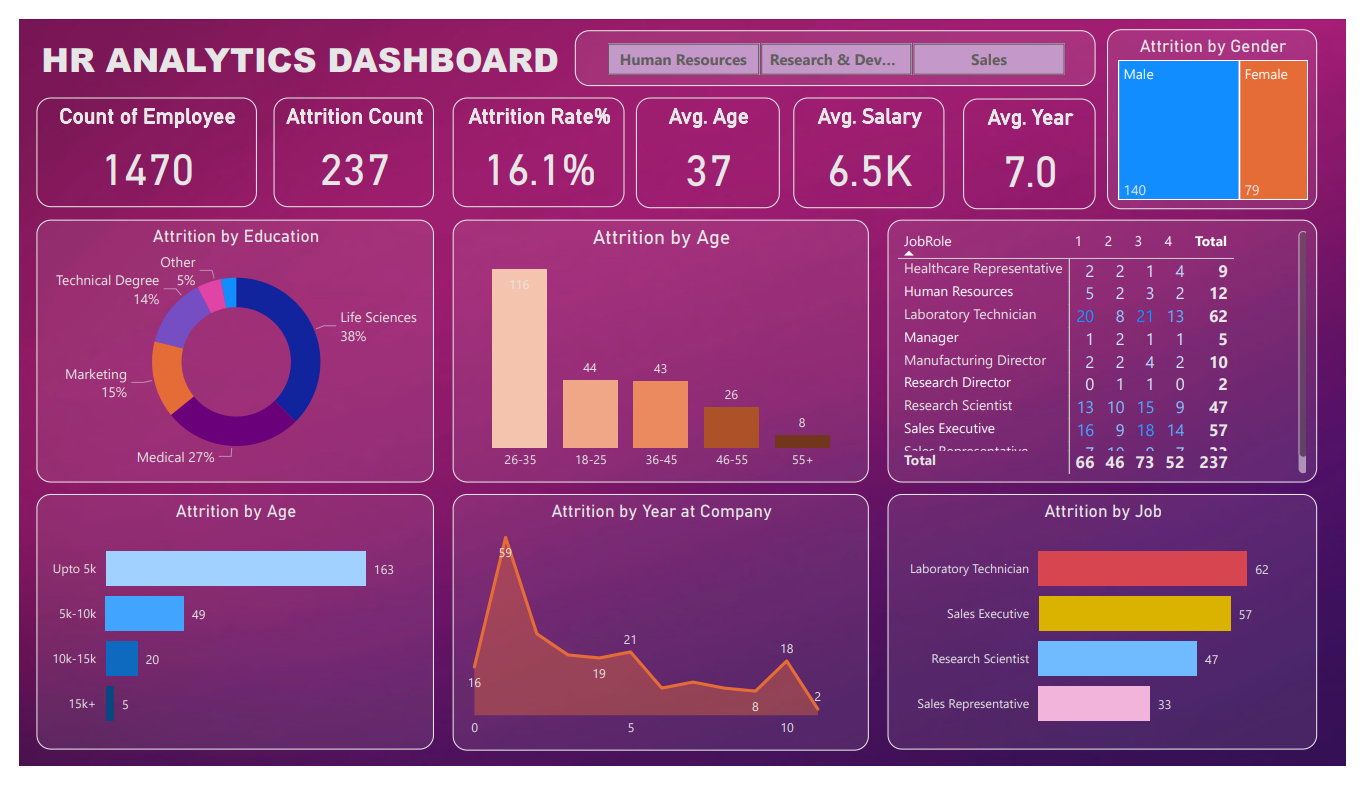

The page's visual inventory and layout, read from the dashboard file:
{"tool":"powerbi","page":{"name":"Page 1","canvas":[1280,720],"ordinal":0},"visuals":[{"type":"card","title":"Count of Employee","fields":{"Values":["CountNonNull(HR_Analytics.EmpID)"]},"box":[16.2,74.6,213.1,106.2],"z":0},{"type":"card","title":"Attrition Count","fields":{"Values":["Sum(HR_Analytics.AttritionCount)"]},"box":[245.4,74.6,154.6,106.2],"z":1000},{"type":"card","title":"Avg. Age","fields":{"Values":["Avg(HR_Analytics.Age)"]},"box":[595.4,74.6,138.5,106.9],"z":2000},{"type":"card","title":"Attrition Rate%","fields":{"Values":["HR_Analytics.AttritionRate%"]},"box":[418.5,74.6,165.4,106.2],"z":3000},{"type":"card","title":"Avg. Salary","fields":{"Values":["Avg(HR_Analytics.MonthlyIncome)"]},"box":[746.9,75.4,146.2,106.9],"z":4000},{"type":"card","title":"Avg. Year","fields":{"Values":["Avg(HR_Analytics.YearsAtCompany)"]},"box":[910.8,76.2,128.5,106.9],"z":5000},{"type":"donutChart","title":"Attrition by Education","fields":{"Category":["HR_Analytics.EducationField"],"Y":["Sum(HR_Analytics.AttritionCount)"]},"box":[16,193,384,254],"z":6000},{"type":"columnChart","title":"Attrition by Age","fields":{"Category":["HR_Analytics.AgeGroup"],"Y":["Sum(HR_Analytics.AttritionCount)"]},"box":[418.2,193.3,401.7,253.6],"z":7000},{"type":"pivotTable","title":"Attrition by Age","fields":{"Rows":["HR_Analytics.JobRole"],"Columns":["HR_Analytics.JobSatisfaction"],"Values":["Sum(HR_Analytics.AttritionCount)"]},"box":[838,193,415,254],"z":8000},{"type":"barChart","title":"Attrition by Age","fields":{"Category":["HR_Analytics.SalarySlab"],"Y":["Sum(HR_Analytics.AttritionCount)"]},"box":[16,458,384,247],"z":9000},{"type":"barChart","title":"Attrition by Job","fields":{"Y":["Sum(HR_Analytics.AttritionCount)"],"Category":["HR_Analytics.JobRole"]},"box":[838,458,415,247],"z":10000},{"type":"areaChart","title":"Attrition by Year at Company","fields":{"Category":["HR_Analytics.YearsAtCompany"],"Y":["Sum(HR_Analytics.AttritionCount)"]},"box":[418.2,457.9,401.7,248.2],"z":11000},{"type":"treemap","title":"Attrition by Gender","fields":{"Values":["Sum(HR_Analytics.AttritionCount)"],"Group":["HR_Analytics.Gender"]},"box":[1050,8.9,203.3,174.4],"z":12000},{"type":"slicer","title":"Attrition by Gender","fields":{"Values":["HR_Analytics.Department"]},"box":[536.1,9.6,503.2,54.8],"z":13000},{"type":"textbox","box":[16.5,9.6,532,67.2],"z":13001}]}

Visuals, with their boxes in screenshot pixels (x1, y1, x2, y2), scaled from the page's 1280x720 canvas onto the 1366x785 screenshot:
"Count of Employee" card: locate(17, 81, 245, 197)
"Attrition Count" card: locate(262, 81, 427, 197)
"Avg. Age" card: locate(635, 81, 783, 198)
"Attrition Rate%" card: locate(447, 81, 623, 197)
"Avg. Salary" card: locate(797, 82, 953, 199)
"Avg. Year" card: locate(972, 83, 1109, 200)
"Attrition by Education" donutChart: locate(17, 210, 427, 487)
"Attrition by Age" columnChart: locate(446, 211, 875, 487)
"Attrition by Age" pivotTable: locate(894, 210, 1337, 487)
"Attrition by Age" barChart: locate(17, 499, 427, 769)
"Attrition by Job" barChart: locate(894, 499, 1337, 769)
"Attrition by Year at Company" areaChart: locate(446, 499, 875, 770)
"Attrition by Gender" treemap: locate(1121, 10, 1338, 200)
"Attrition by Gender" slicer: locate(572, 10, 1109, 70)
textbox: locate(18, 10, 585, 84)
